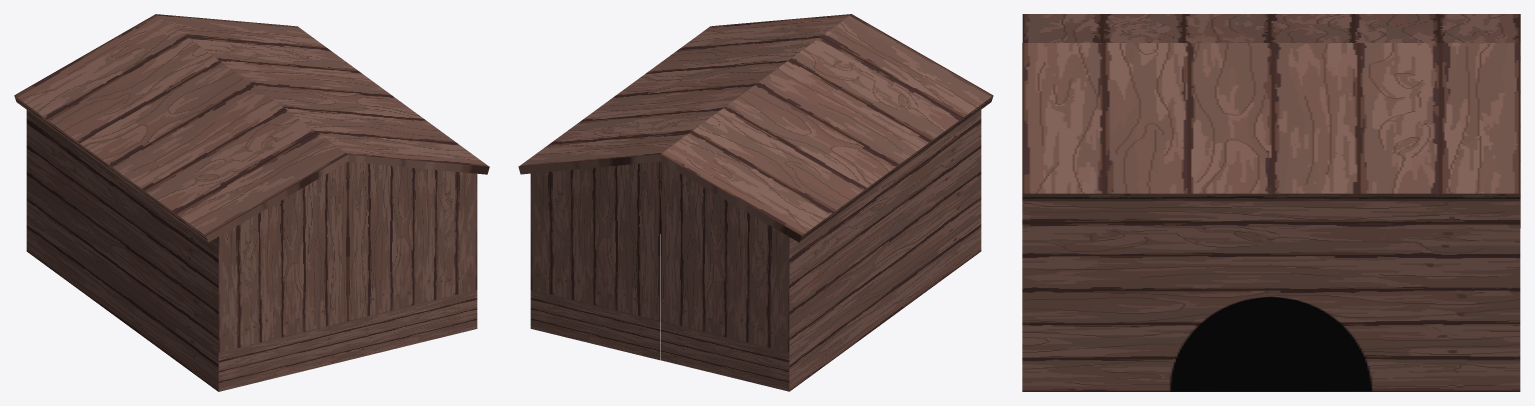
The model's file is wood_house.fbx.
3 views of the same model, side by side, from view 1: azimuth 30°, elevation 25°; view 2: azimuth 150°, elevation 25°; view 3: azimuth 270°, elevation 25° (orthographic). The views are drawn at different scales.
Parts seen in each view (by area): view 1: WoodHouse; view 2: WoodHouse; view 3: WoodHouse.
Boxes of the visible parts, <box> form: WoodHouse: <box>14,14,489,391</box>; WoodHouse: <box>518,14,993,391</box>; WoodHouse: <box>1022,14,1520,391</box>.
Bounding box in the file's own units: 767 × 533 × 901.
